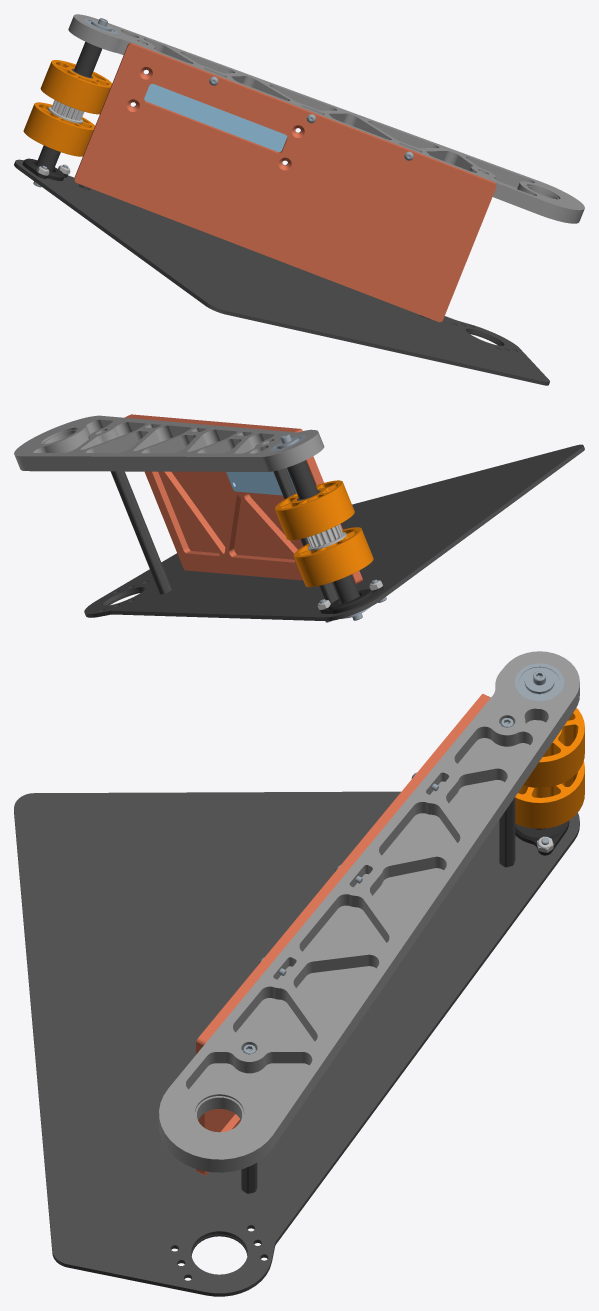
The model's file is Funnel Left.glb.
The picture shows the model from 3 angles, top to bottom: view 1: azimuth 30°, elevation 25°; view 2: azimuth 150°, elevation 25°; view 3: azimuth 270°, elevation 25°; orthographic projection. The views are drawn at different scales.
Visible parts, largest first — view 1: FUNNEL WALL, LEFT, FUNNEL FLAP, LEFT, FUNNEL WING TOP PLATE, LEFT, am-3950 2.25N OverMolded 375Hex Compliant Wheel V6 (×2), P-25A-0173, Spacer (Configurable), 18t 9mm Wide 1/2" Hex Bore Double Flange 5mm HTD Aluminum Pu; view 2: FUNNEL FLAP, LEFT, FUNNEL WING TOP PLATE, LEFT, FUNNEL WALL, LEFT, am-3950 2.25N OverMolded 375Hex Compliant Wheel V6 (×2), 3/8" ThunderHex (4.875 in) (×2), Spacer (Configurable) (×2), P-25A-0173, BEARING HAT, 18t 9mm Wide 1/2" Hex Bore Double Flange 5mm HTD Aluminum Pu; view 3: FUNNEL FLAP, LEFT, FUNNEL WING TOP PLATE, LEFT, am-3950 2.25N OverMolded 375Hex Compliant Wheel V6 (×2), FUNNEL WALL, LEFT, 3/8" ThunderHex (4.875 in), .375" Hex ID 1.125" OD Flanged Bearing (217-2735), BEARING HAT.
Boxes of the visible parts, <box> form: FUNNEL WALL, LEFT: <box>74,43,496,322</box>; FUNNEL FLAP, LEFT: <box>14,159,549,385</box>; FUNNEL WING TOP PLATE, LEFT: <box>68,14,584,223</box>; am-3950 2.25N OverMolded 375Hex Compliant Wheel V6 (×2): <box>23,60,112,156</box>; P-25A-0173: <box>131,73,300,165</box>; Spacer (Configurable): <box>74,42,101,77</box>; 18t 9mm Wide 1/2" Hex Bore Double Flange 5mm HTD Aluminum Pu: <box>48,100,84,123</box>; FUNNEL FLAP, LEFT: <box>84,444,584,621</box>; FUNNEL WING TOP PLATE, LEFT: <box>14,415,324,471</box>; FUNNEL WALL, LEFT: <box>125,414,362,584</box>; am-3950 2.25N OverMolded 375Hex Compliant Wheel V6 (×2): <box>274,480,373,586</box>; 3/8" ThunderHex (4.875 in) (×2): <box>110,468,338,603</box>; Spacer (Configurable) (×2): <box>287,460,359,603</box>; P-25A-0173: <box>226,468,296,495</box>; BEARING HAT: <box>320,586,383,613</box>; 18t 9mm Wide 1/2" Hex Bore Double Flange 5mm HTD Aluminum Pu: <box>306,524,346,550</box>; FUNNEL FLAP, LEFT: <box>14,791,579,1296</box>; FUNNEL WING TOP PLATE, LEFT: <box>159,651,579,1172</box>; am-3950 2.25N OverMolded 375Hex Compliant Wheel V6 (×2): <box>515,708,584,828</box>; FUNNEL WALL, LEFT: <box>196,694,490,1175</box>; 3/8" ThunderHex (4.875 in): <box>499,797,515,867</box>; .375" Hex ID 1.125" OD Flanged Bearing (217-2735): <box>515,663,564,700</box>; BEARING HAT: <box>515,820,569,855</box>.
Size of the model in its own units: 0.4374 by 0.3012 by 0.3592.
